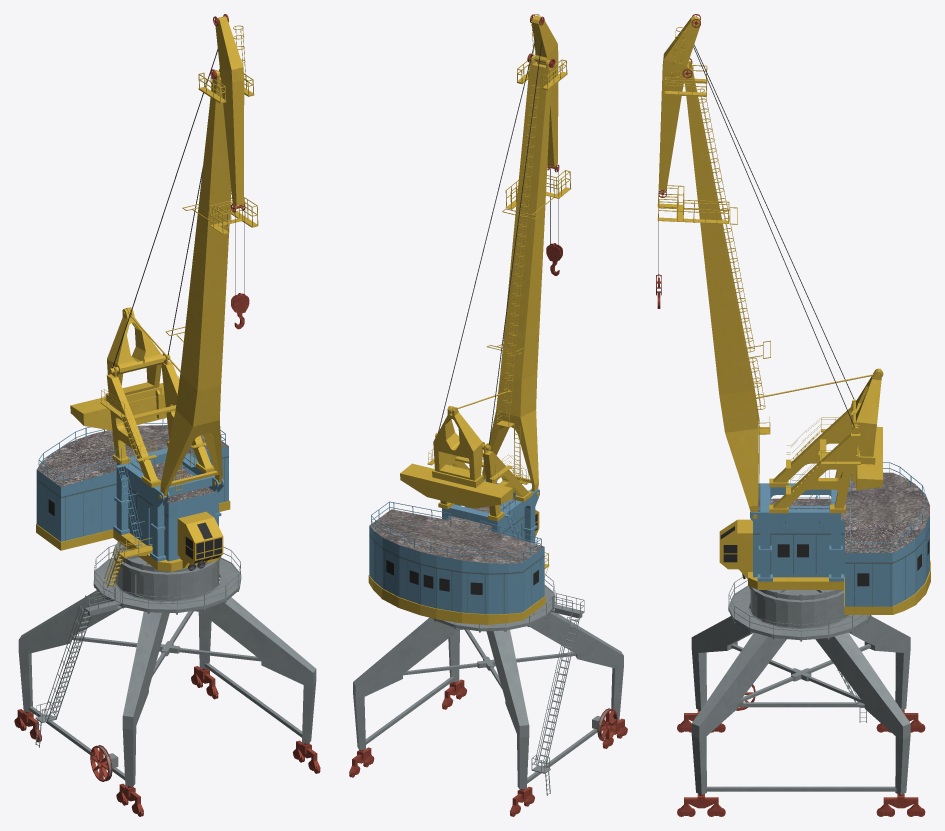
The model's file is crane.glb.
3 renders of one model, left to right at view 1: azimuth 30°, elevation 25°; view 2: azimuth 150°, elevation 25°; view 3: azimuth 270°, elevation 25°, orthographic. The views are drawn at different scales.
Parts seen in each view (by area): view 1: turnable_platform, base, boom, boom_angle_geer, luffing_jib, ropes_1; view 2: turnable_platform, base, boom, boom_angle_geer, luffing_jib, ropes_1; view 3: turnable_platform, base, boom, luffing_jib, boom_angle_geer, ropes_1.
Boxes of the visible parts, <box> form: turnable_platform: <box>36,353,230,587</box>; base: <box>14,544,320,816</box>; boom: <box>158,69,258,499</box>; boom_angle_geer: <box>70,307,179,430</box>; luffing_jib: <box>213,14,246,212</box>; ropes_1: <box>112,49,217,368</box>; turnable_platform: <box>368,443,549,624</box>; base: <box>349,574,627,816</box>; boom: <box>482,53,571,496</box>; boom_angle_geer: <box>400,405,512,508</box>; luffing_jib: <box>530,14,559,172</box>; ropes_1: <box>438,40,541,444</box>; turnable_platform: <box>719,400,930,614</box>; base: <box>677,577,925,816</box>; boom: <box>657,58,770,519</box>; luffing_jib: <box>658,14,700,197</box>; boom_angle_geer: <box>851,368,883,489</box>; ropes_1: <box>693,44,854,427</box>.
Size of the model in its own units: 16.92 by 63.47 by 20.87.
2 materials, 2 textured.
